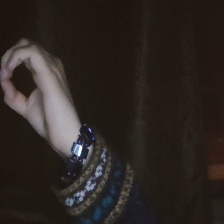O: (1, 32, 83, 141)
